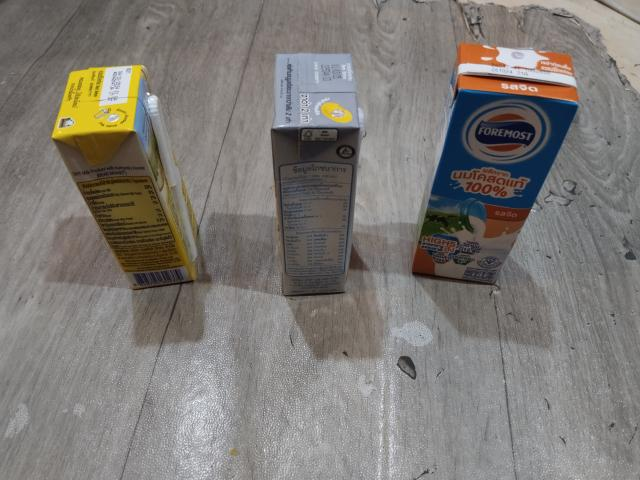drink_box: (402, 29, 591, 297), (37, 59, 212, 304), (270, 46, 367, 302)
